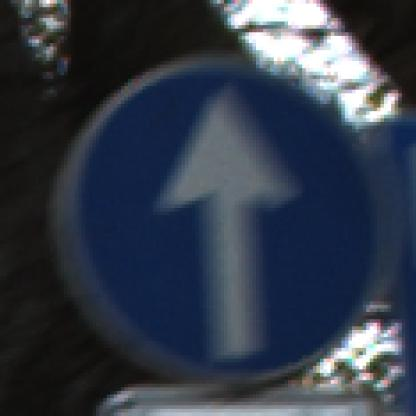AheadOnly: (40, 37, 382, 381)
